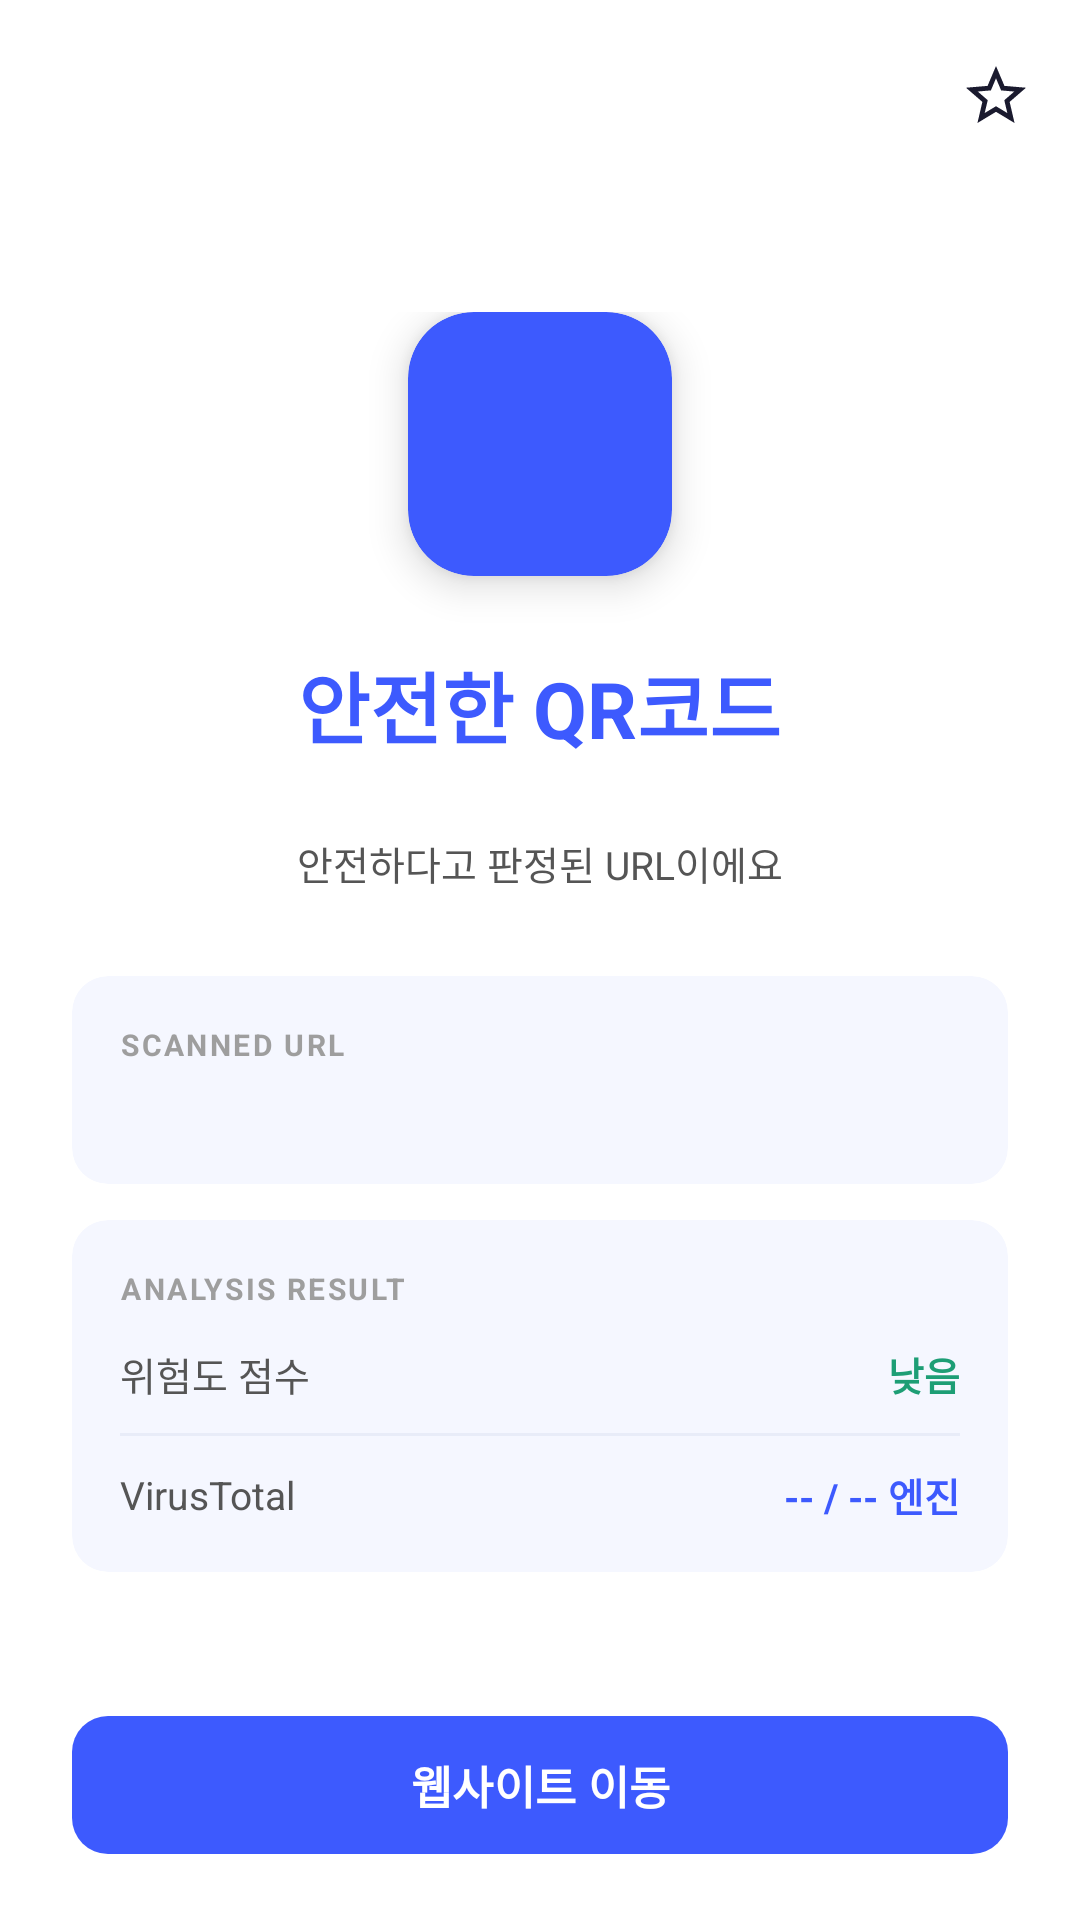

Named icons in this screenshot (1080*1920) and their centers, (x=x, y=y):
즐겨찾기: (x=996, y=94)
